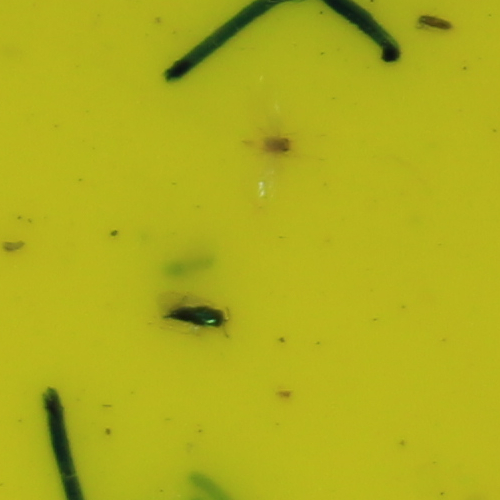Psyllaephagus: (162, 303, 227, 327)
